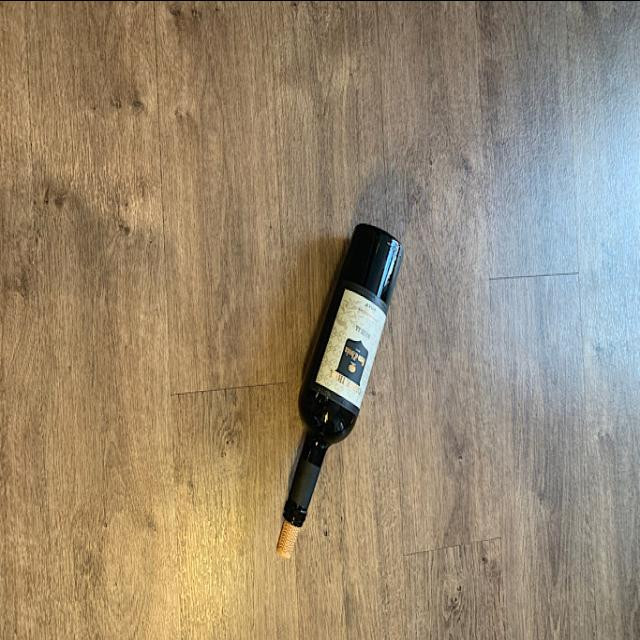litter: (280, 218, 404, 530)
